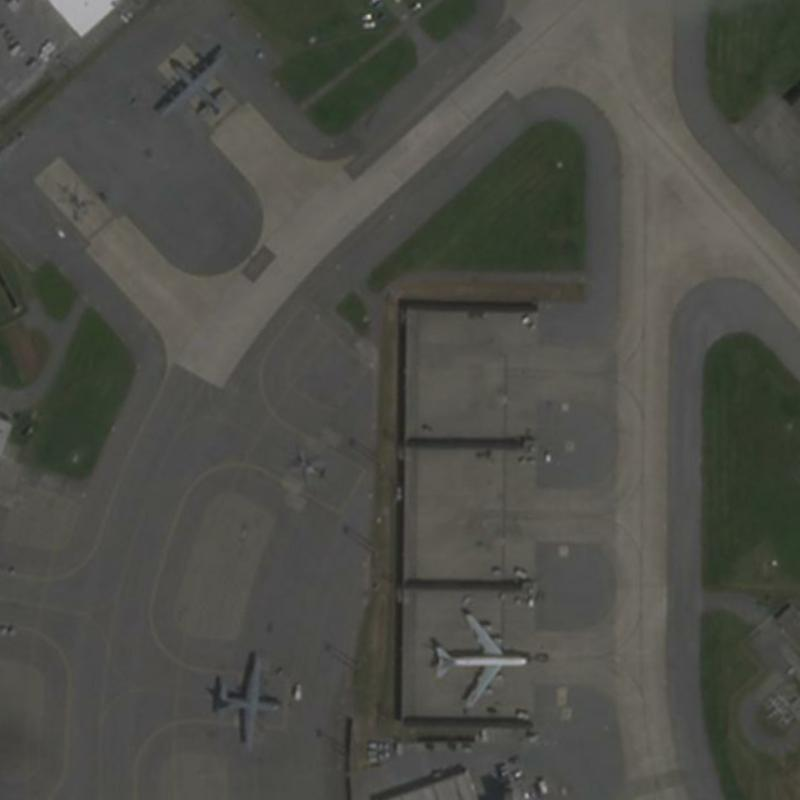A11: (427, 595, 541, 714)
A2: (200, 647, 286, 748), (144, 34, 232, 120)
